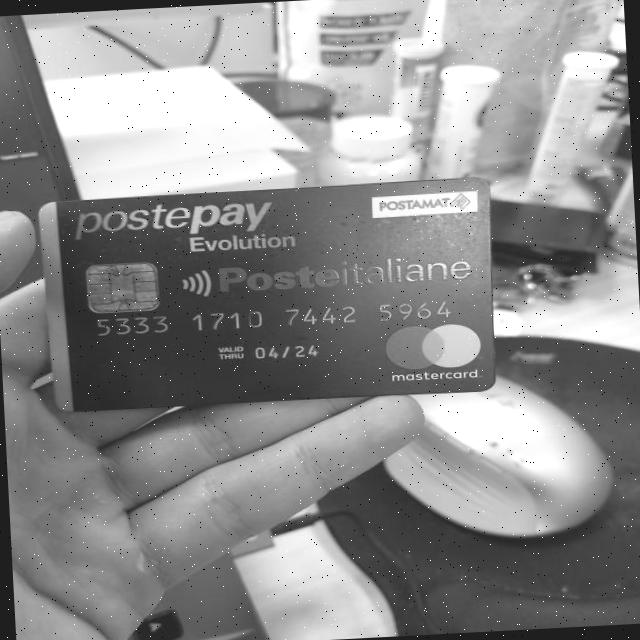card: (29, 174, 506, 414)
